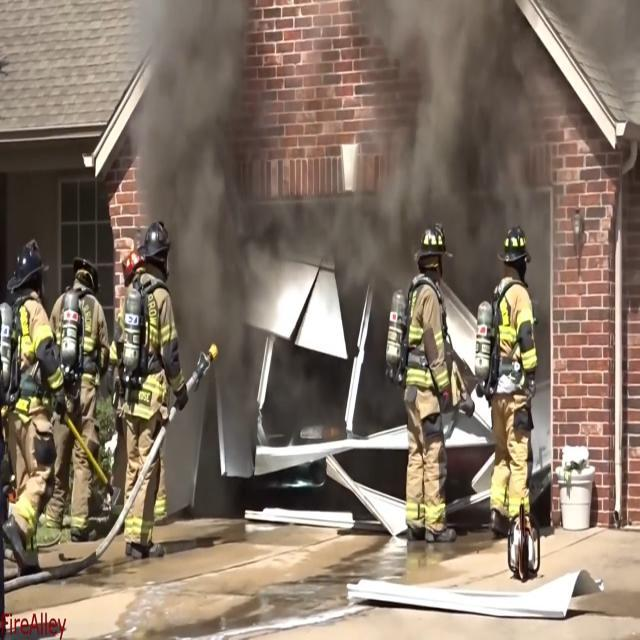Smoke: (148, 11, 259, 220), (406, 18, 514, 222)
